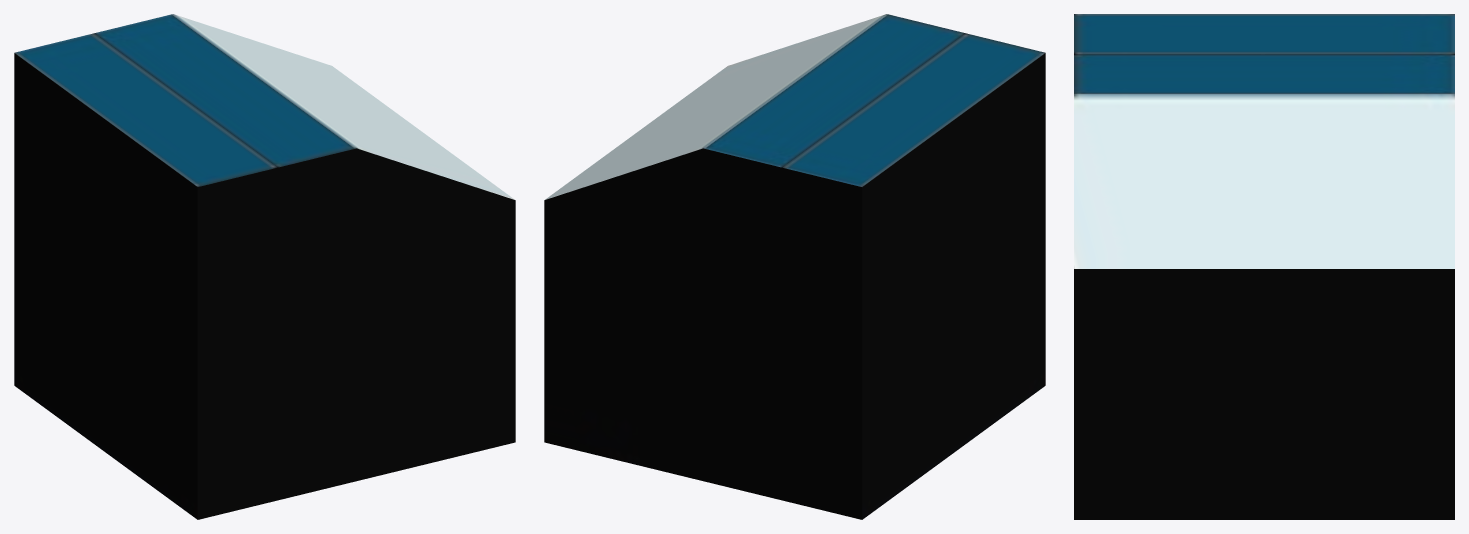
Rendered from CubeHall1.fbx.
3 renders of one model, left to right at view 1: azimuth 30°, elevation 25°; view 2: azimuth 150°, elevation 25°; view 3: azimuth 270°, elevation 25°, orthographic. The views are drawn at different scales.
Visible parts, largest first — view 1: pCube1; view 2: pCube1; view 3: pCube1.
Boxes of the visible parts, x1=… form: pCube1: x1=14, y1=14, x2=515, y2=519; pCube1: x1=544, y1=14, x2=1045, y2=519; pCube1: x1=1074, y1=14, x2=1454, y2=519.
Size of the model in its own units: 1 by 1 by 1.
1 material, 1 textured.
